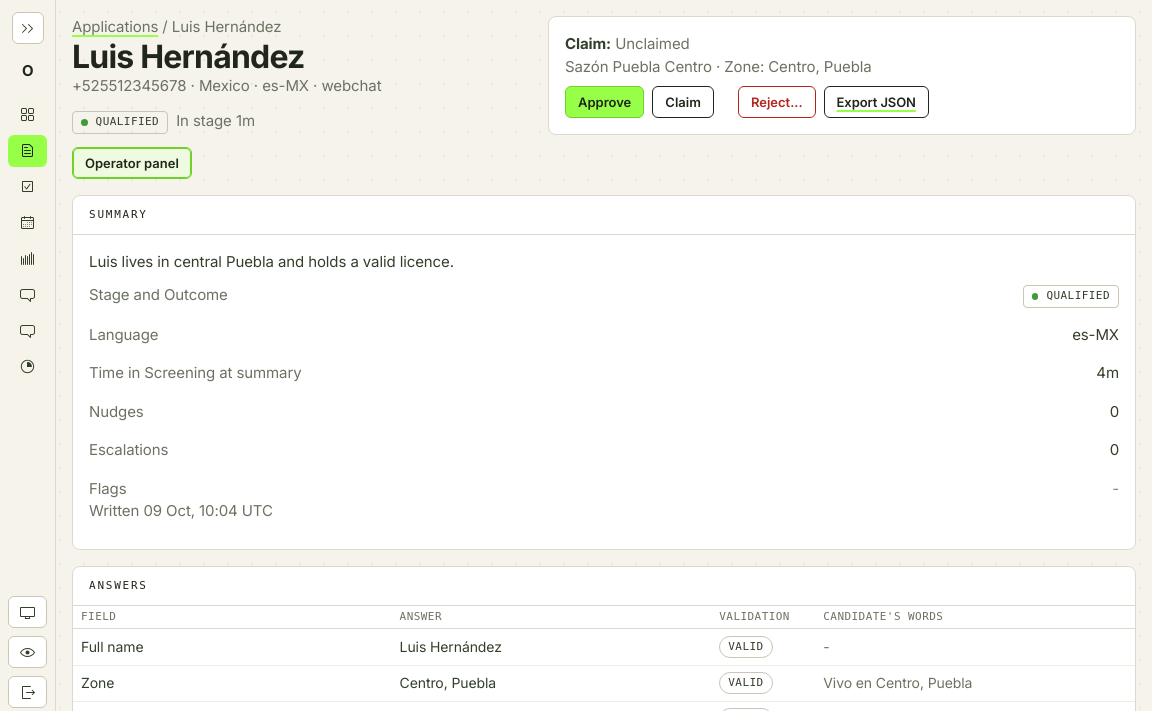
Test: Operator panel: who sees it (UI8) › hides the panel and its toggle while an Operator previews the Recruiter view
The width and height of the screenshot is (1152, 711).
Click the button named "Preview as Recruiter". click: {"x": 28, "y": 652}
box: [8,636,47,668]
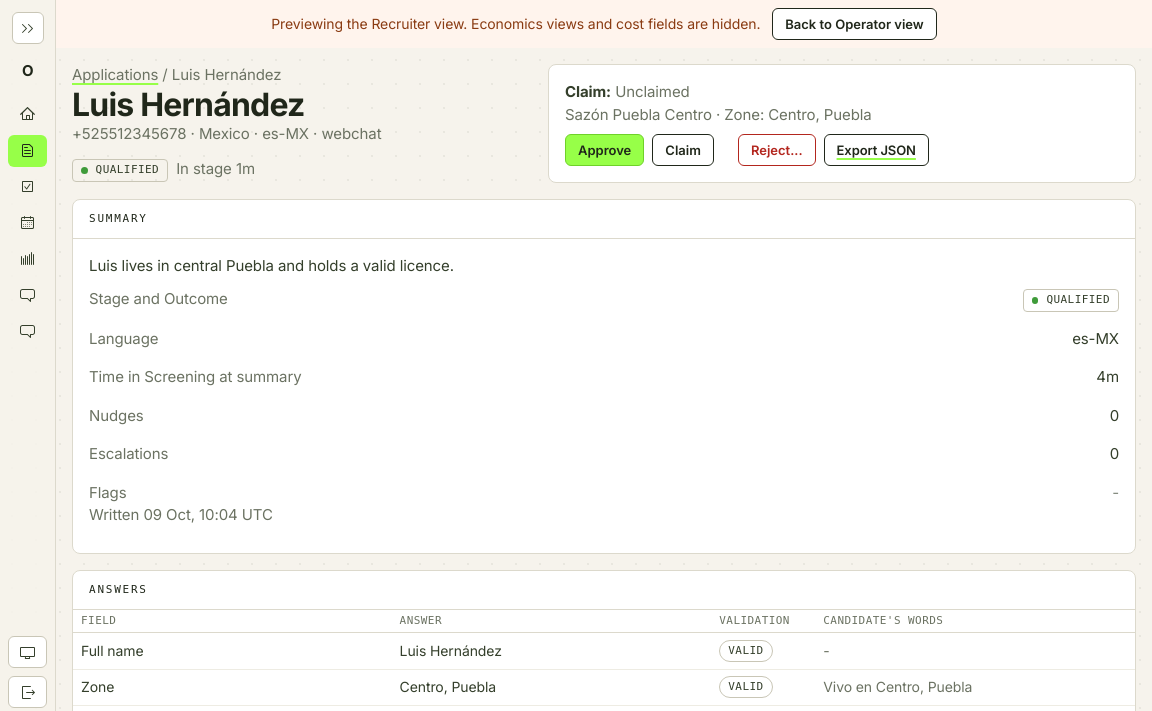
expect the button "Operator panel" is gone: met
